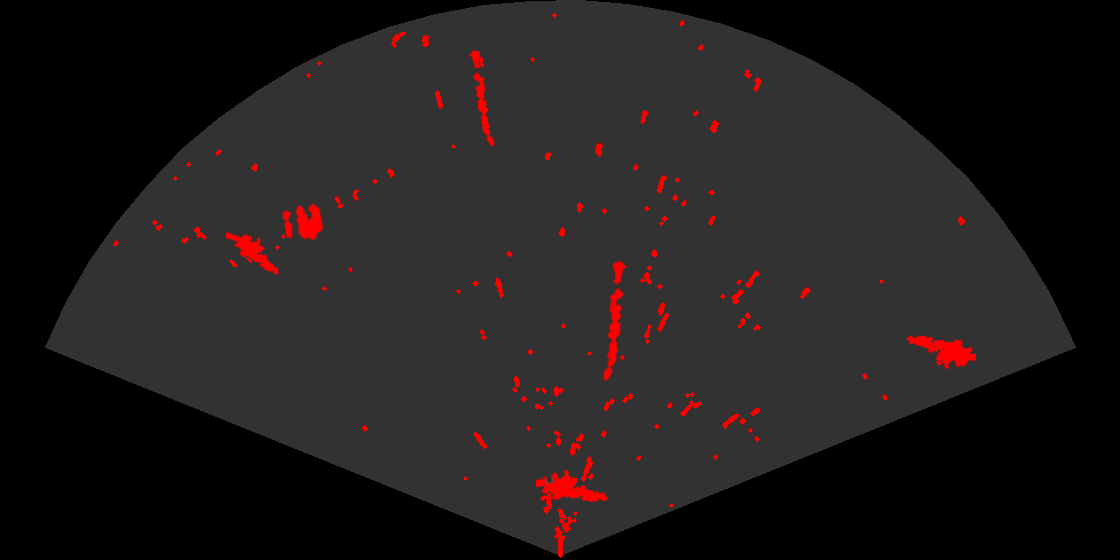ball: (280, 202, 325, 242)
chain: (601, 259, 628, 383), (468, 48, 496, 148)
frogman: (226, 230, 289, 277), (536, 468, 610, 504), (905, 334, 976, 371)
